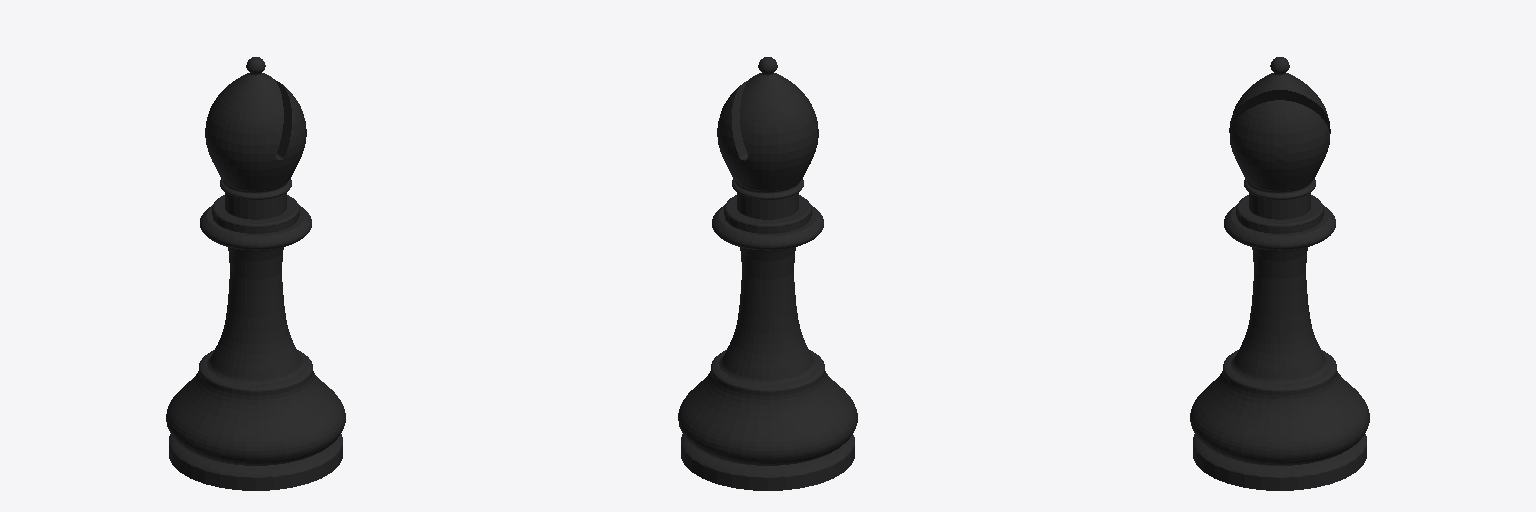
File: bishop_black.obj
3 views of the same model, side by side, from view 1: azimuth 30°, elevation 25°; view 2: azimuth 150°, elevation 25°; view 3: azimuth 270°, elevation 25° (orthographic).
Visible parts, largest first — view 1: Body8; view 2: Body8; view 3: Body8.
Boxes of the visible parts, <box> form: Body8: <box>166,57,345,490</box>; Body8: <box>678,57,857,490</box>; Body8: <box>1190,57,1369,490</box>.
Bounding box in the file's own units: 3.71 × 9.01 × 3.7.